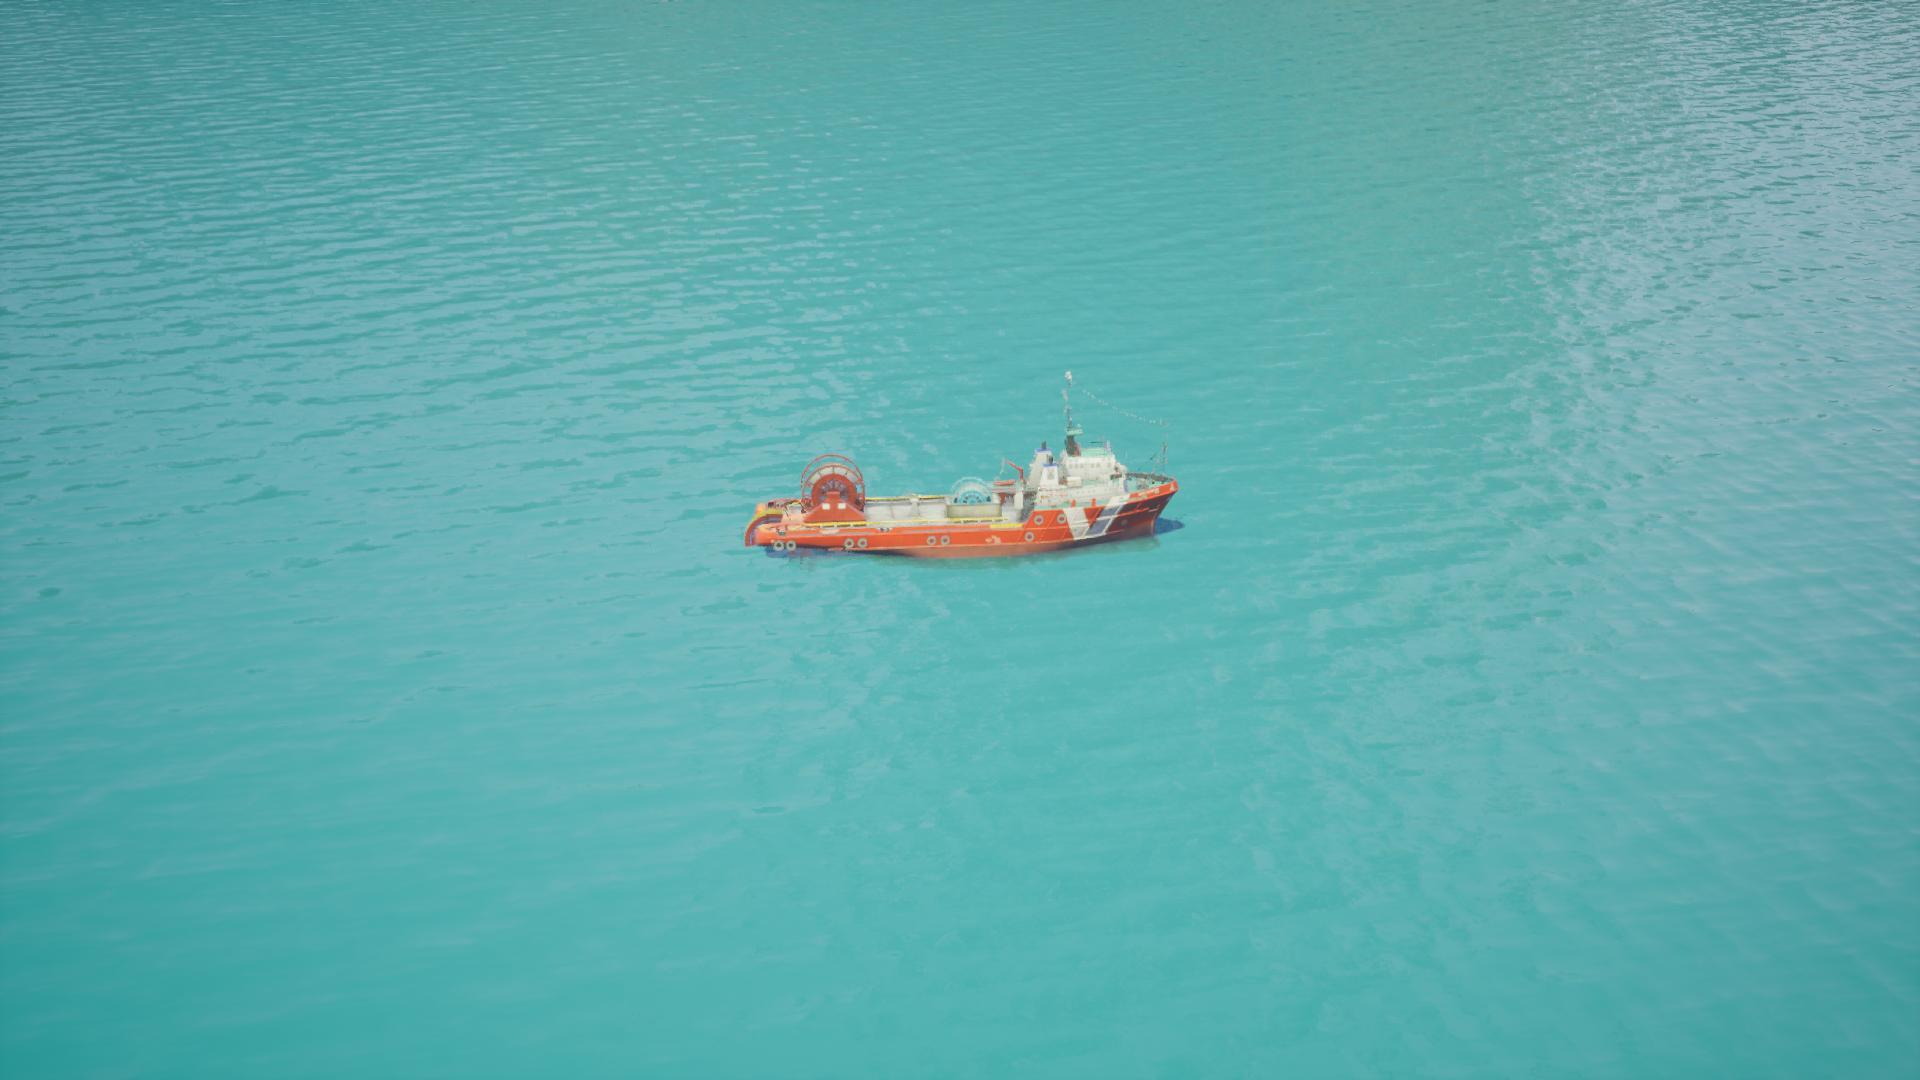Tug Boat: (745, 373, 1185, 571)
